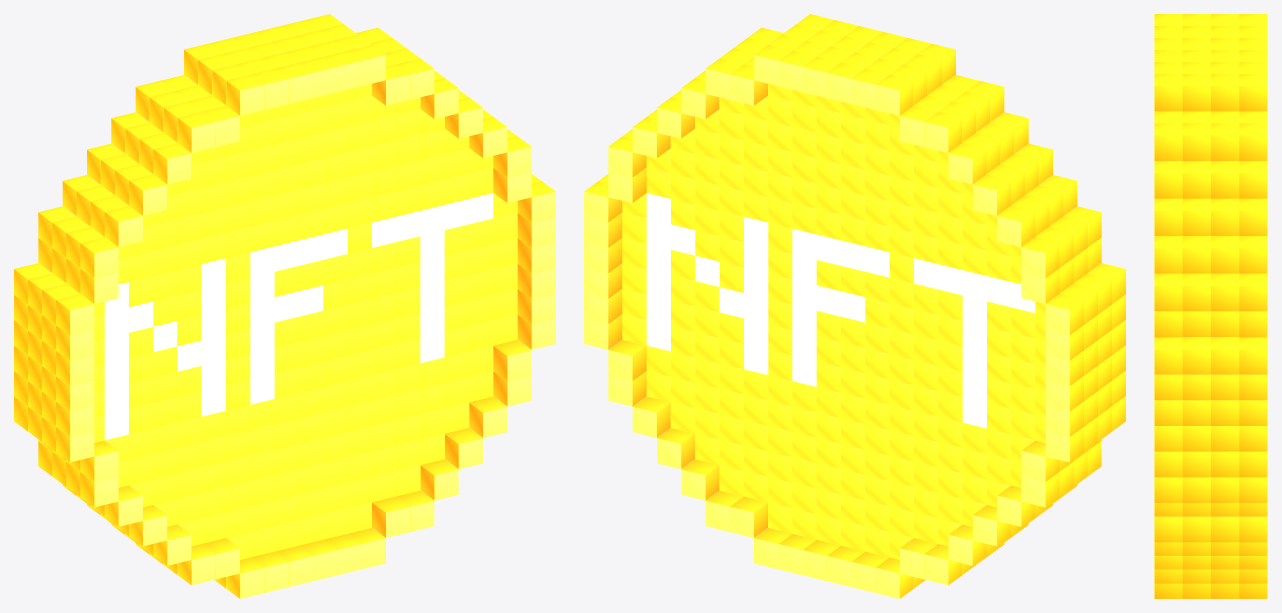
Rendered from asset.glb.
3 renders of one model, left to right at view 1: azimuth 30°, elevation 25°; view 2: azimuth 150°, elevation 25°; view 3: azimuth 270°, elevation 25°, orthographic.
Parts seen in each view (by area): view 1: Coin; view 2: Coin; view 3: Coin.
Boxes of the visible parts, left/top/right/bottom form: Coin: left=14, top=14, right=555, bottom=598; Coin: left=584, top=14, right=1125, bottom=598; Coin: left=1154, top=14, right=1267, bottom=598.
Size of the model in its own units: 0.4 by 0.4 by 0.08.
